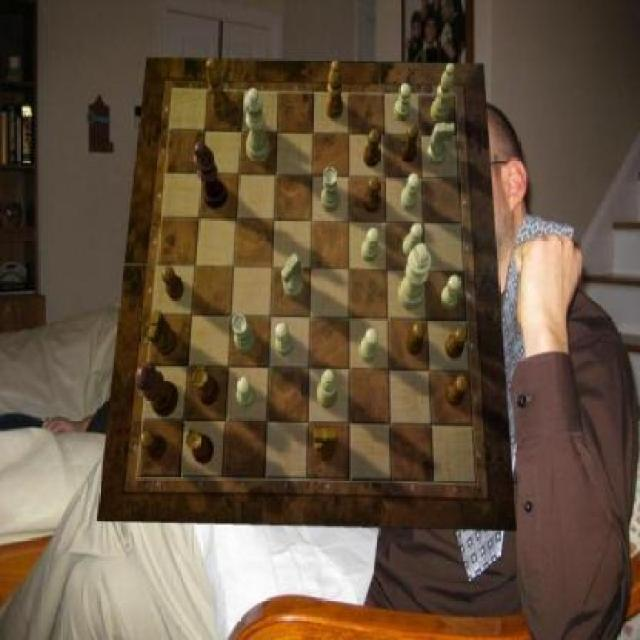bishop: (206, 58, 230, 117), (325, 60, 342, 118)
black-bishop: (194, 143, 229, 209)
black-king: (148, 311, 178, 356), (314, 428, 338, 460)
black-knight: (444, 326, 468, 360), (404, 322, 426, 356), (162, 265, 184, 299), (140, 431, 167, 458), (444, 376, 468, 406), (364, 129, 382, 168), (363, 177, 381, 213), (402, 125, 419, 163)
black-pawn: (136, 362, 180, 416)
black-queen: (187, 428, 216, 464), (194, 366, 220, 406)
black-rook: (430, 63, 454, 122), (317, 369, 337, 409)
white-bishop: (398, 243, 432, 311)
white-king: (428, 121, 455, 166), (282, 252, 304, 298)
white-knight: (400, 172, 420, 210), (442, 275, 462, 310), (402, 223, 422, 258), (358, 329, 378, 363), (394, 83, 411, 122), (362, 228, 381, 262), (276, 323, 294, 357), (237, 377, 255, 409)
white-pawn: (244, 88, 270, 164)
white-queen: (232, 315, 256, 354), (322, 168, 341, 213)
